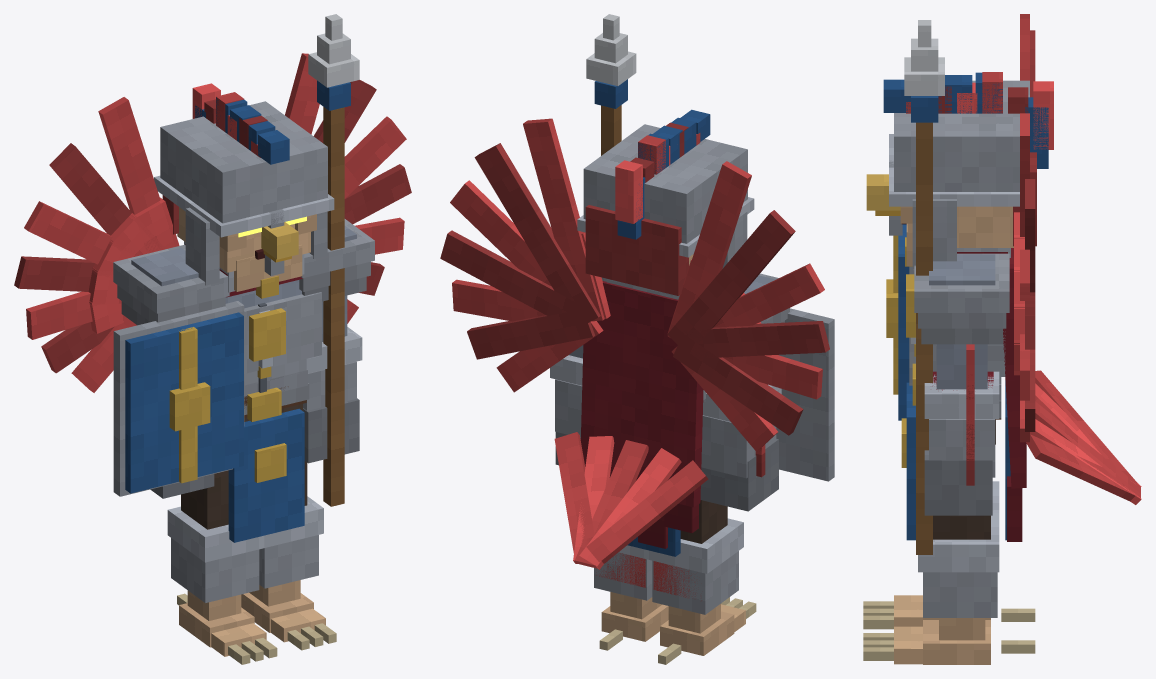
The model's file is harpy_garde_v2.glb.
3 views of the same model, side by side, from view 1: azimuth 30°, elevation 25°; view 2: azimuth 150°, elevation 25°; view 3: azimuth 270°, elevation 25° (orthographic). The views are drawn at different scales.
Parts seen in each view (by area): view 1: Torso, ArmR, Head, LegR, HandL, ArmL, LegL, Root; view 2: Torso, Head, ArmR, LegR, LegL, HandL, ArmL, Root; view 3: Head, Torso, ArmL, LegL, HandL, ArmR, Root, LegR.
Part boxes in pixels (x1=…): Torso: x1=14, y1=53, x2=411, y2=542; ArmR: x1=113, y1=244, x2=244, y2=498; Head: x1=154, y1=83, x2=334, y2=292; LegR: x1=167, y1=470, x2=266, y2=656; HandL: x1=308, y1=14, x2=359, y2=506; ArmL: x1=299, y1=219, x2=374, y2=463; LegL: x1=241, y1=461, x2=325, y2=642; Root: x1=177, y1=593, x2=336, y2=664; Torso: x1=440, y1=118, x2=829, y2=569; Head: x1=577, y1=109, x2=754, y2=299; ArmR: x1=700, y1=273, x2=834, y2=511; LegR: x1=649, y1=500, x2=745, y2=655; LegL: x1=594, y1=545, x2=668, y2=641; HandL: x1=586, y1=14, x2=636, y2=155; ArmL: x1=550, y1=277, x2=606, y2=465; Root: x1=599, y1=597, x2=756, y2=664; Head: x1=866, y1=72, x2=1053, y2=270; Torso: x1=901, y1=14, x2=1141, y2=541; ArmL: x1=914, y1=253, x2=1009, y2=515; LegL: x1=894, y1=513, x2=999, y2=664; HandL: x1=904, y1=20, x2=944, y2=554; ArmR: x1=886, y1=224, x2=915, y2=420; Root: x1=863, y1=601, x2=1035, y2=660; LegR: x1=894, y1=481, x2=999, y2=626.
Size of the model in its own units: 1.46 by 2.12 by 0.8178.
Materials: 43 (43 with a texture image).
